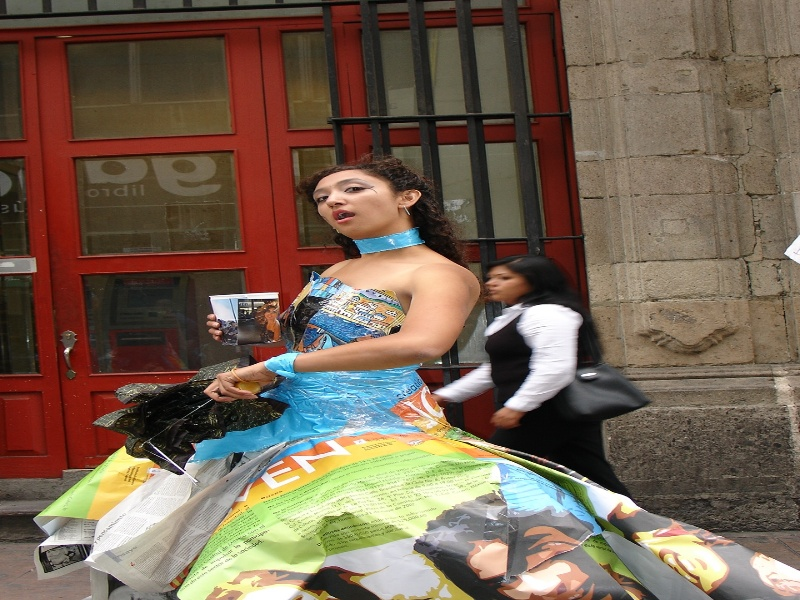face: (305, 161, 417, 241), (484, 252, 531, 315)
